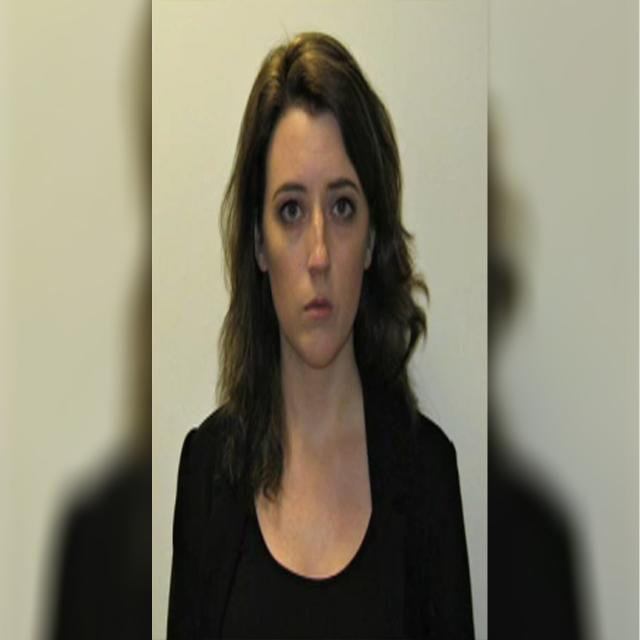human: (164, 29, 479, 640)
